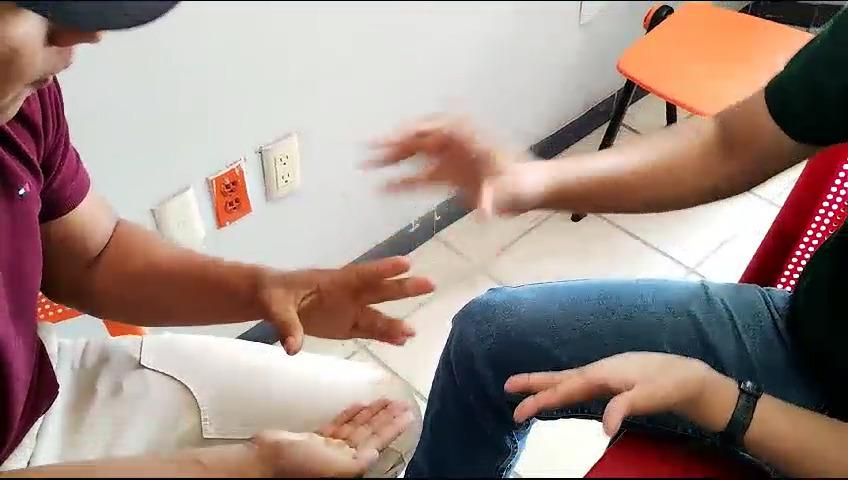Paper: (249, 243, 447, 372)
